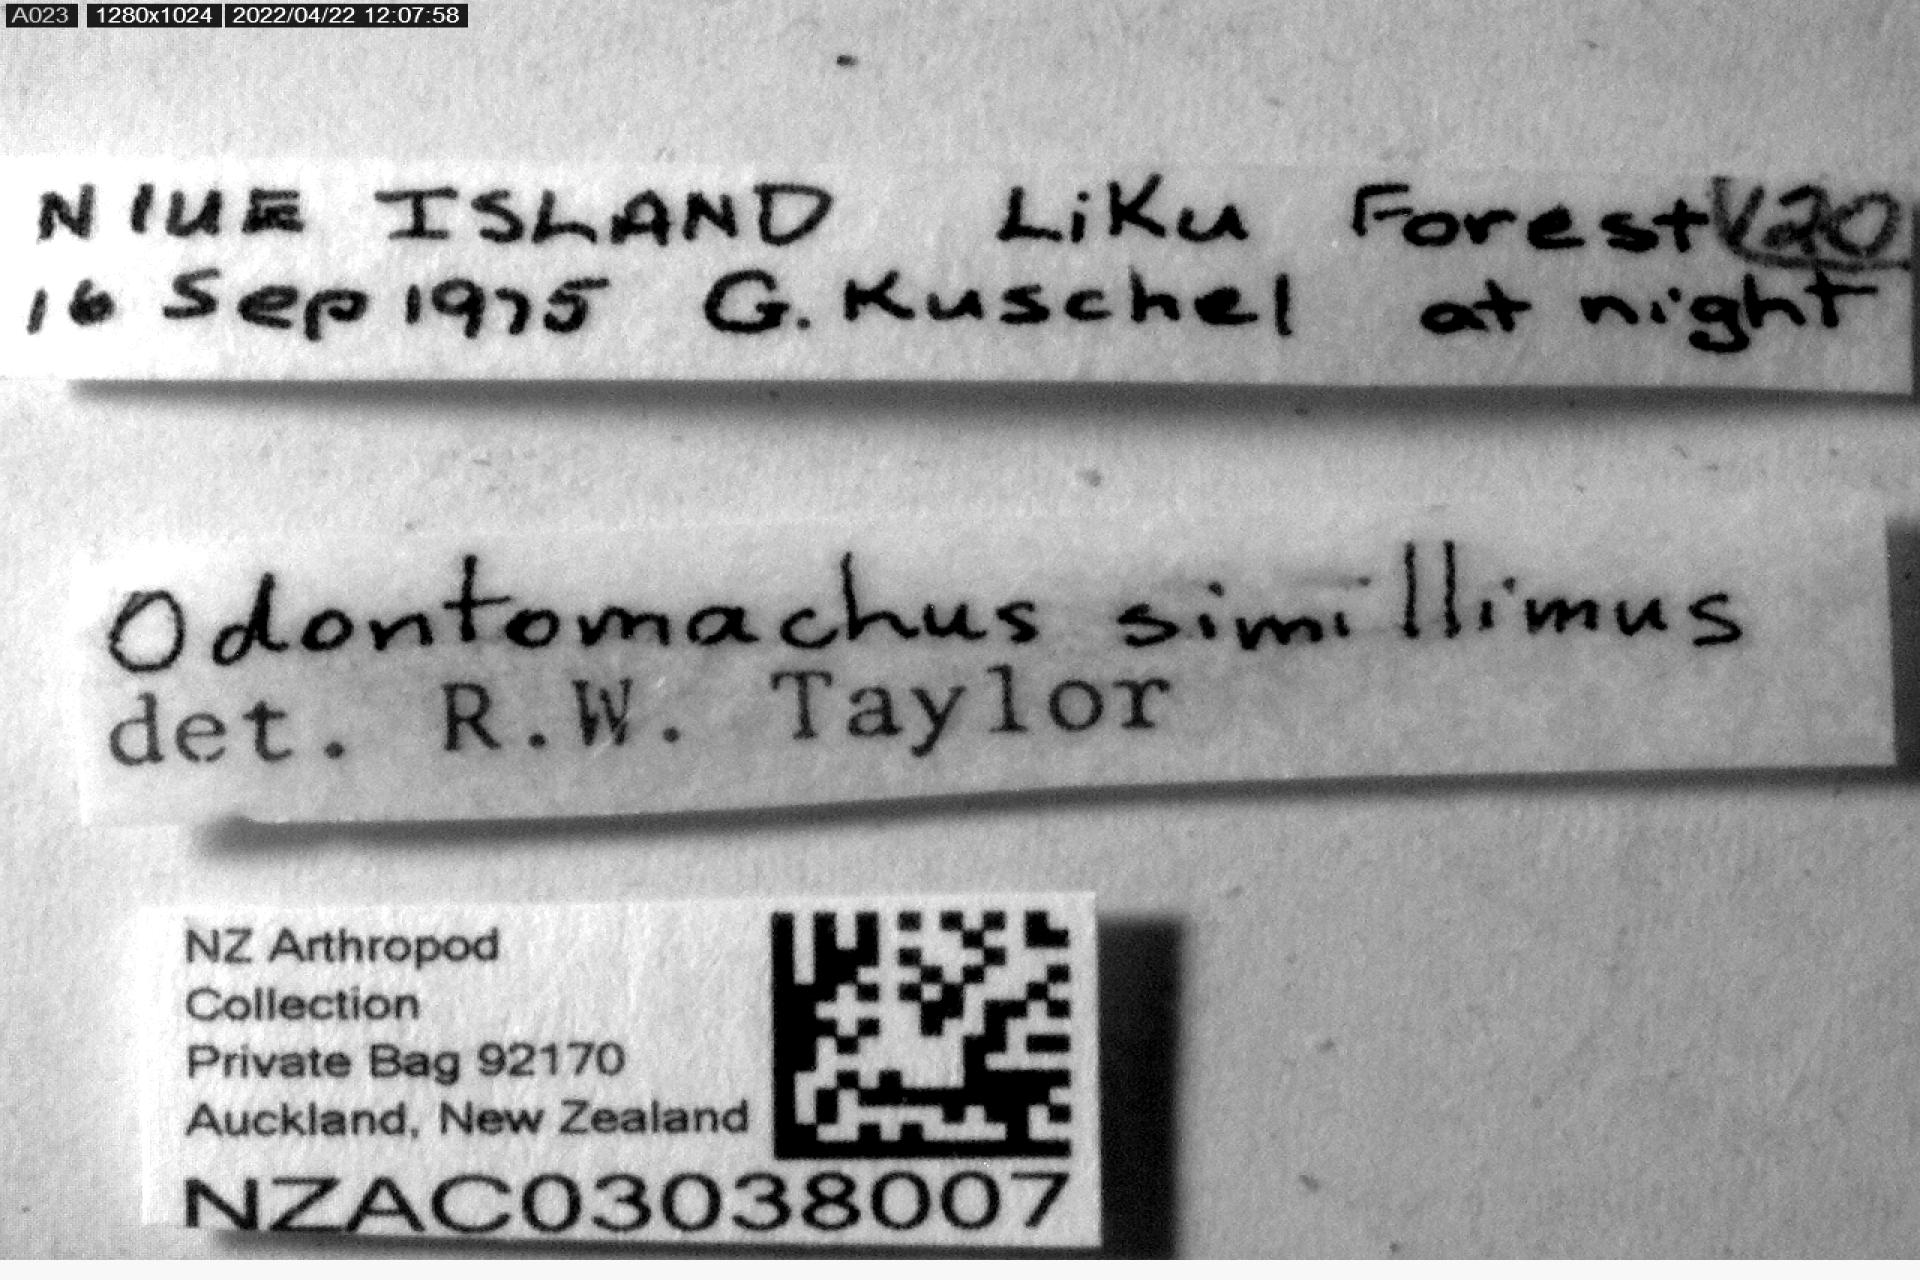hand_label: (0, 160, 1916, 394)
mixed_label: (74, 497, 1894, 826)
typed_label: (143, 894, 1099, 1247)
